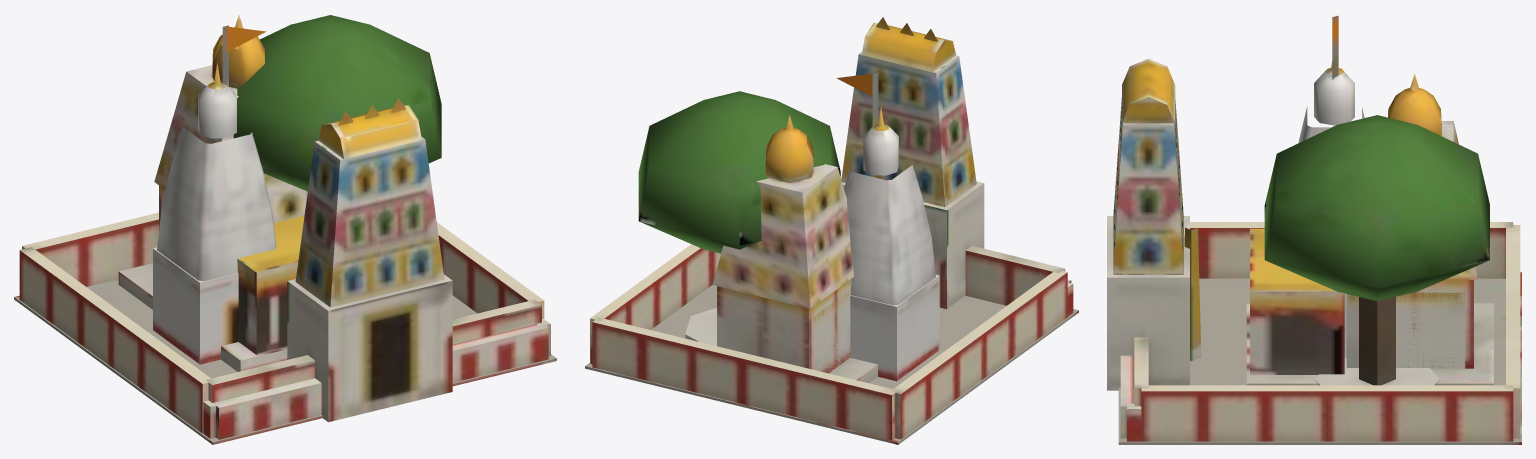
The model's file is kit_temple.glb.
3 views of the same model, side by side, from view 1: azimuth 30°, elevation 25°; view 2: azimuth 150°, elevation 25°; view 3: azimuth 270°, elevation 25° (orthographic). The views are drawn at different scales.
Parts seen in each view (by area): view 1: var_gopuram, var_shrine, var_vimana, kit_temple_body; view 2: var_gopuram, var_shrine, var_vimana, kit_temple_body; view 3: var_gopuram, var_shrine, var_vimana, kit_temple_body.
Part boxes in pixels (<box>): var_gopuram: <box>19,98,544,433</box>; var_shrine: <box>153,15,441,364</box>; var_vimana: <box>118,15,550,439</box>; kit_temple_body: <box>14,279,556,444</box>; var_gopuram: <box>590,17,1067,440</box>; var_shrine: <box>638,72,939,381</box>; var_vimana: <box>590,115,1073,439</box>; kit_temple_body: <box>585,285,1078,444</box>; var_gopuram: <box>1107,58,1520,441</box>; var_shrine: <box>1264,15,1489,385</box>; var_vimana: <box>1120,74,1519,441</box>; kit_temple_body: <box>1118,272,1521,444</box>.
Bounding box in the file's own units: 29.2 × 24.5 × 29.
Materials: 1 (1 with a texture image).
